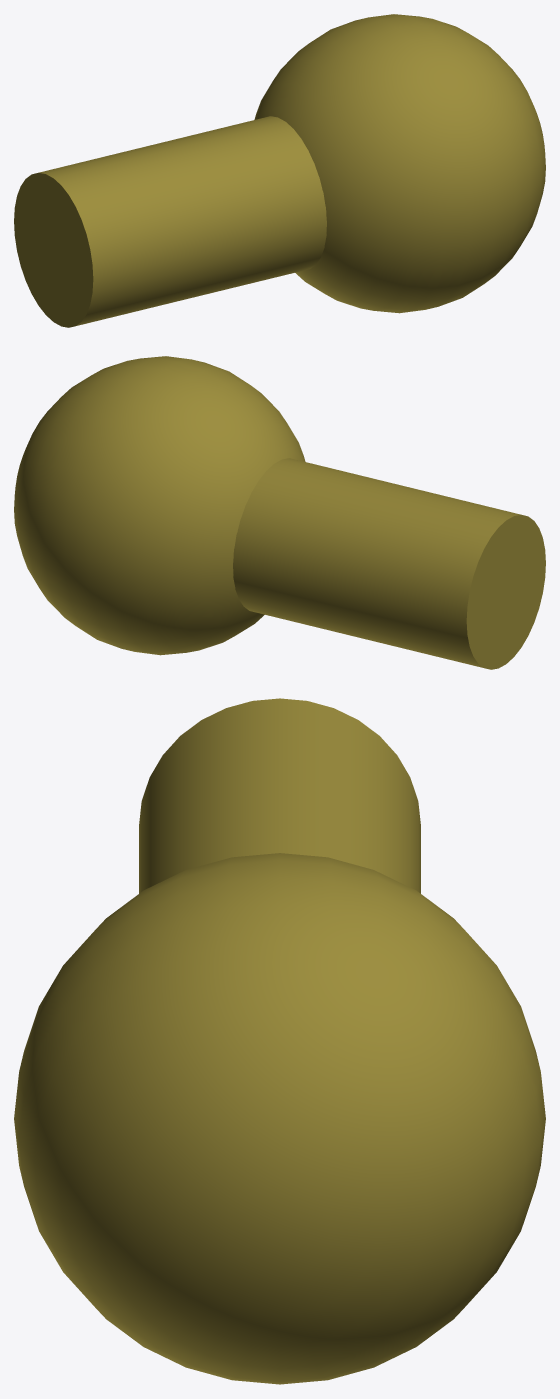
The model's file is doorknob.fbx.
3 views of the same model, one above another, from view 1: azimuth 30°, elevation 25°; view 2: azimuth 150°, elevation 25°; view 3: azimuth 270°, elevation 25° (orthographic). The views are drawn at different scales.
Parts seen in each view (by area): view 1: DoorKnob; view 2: DoorKnob; view 3: DoorKnob.
Boxes of the visible parts, box(x1,y1,x2,y2) form: DoorKnob: box(14, 14, 545, 327); DoorKnob: box(14, 356, 545, 669); DoorKnob: box(14, 698, 545, 1384).
Size of the model in its own units: 27.54 by 15.1 by 15.1.
